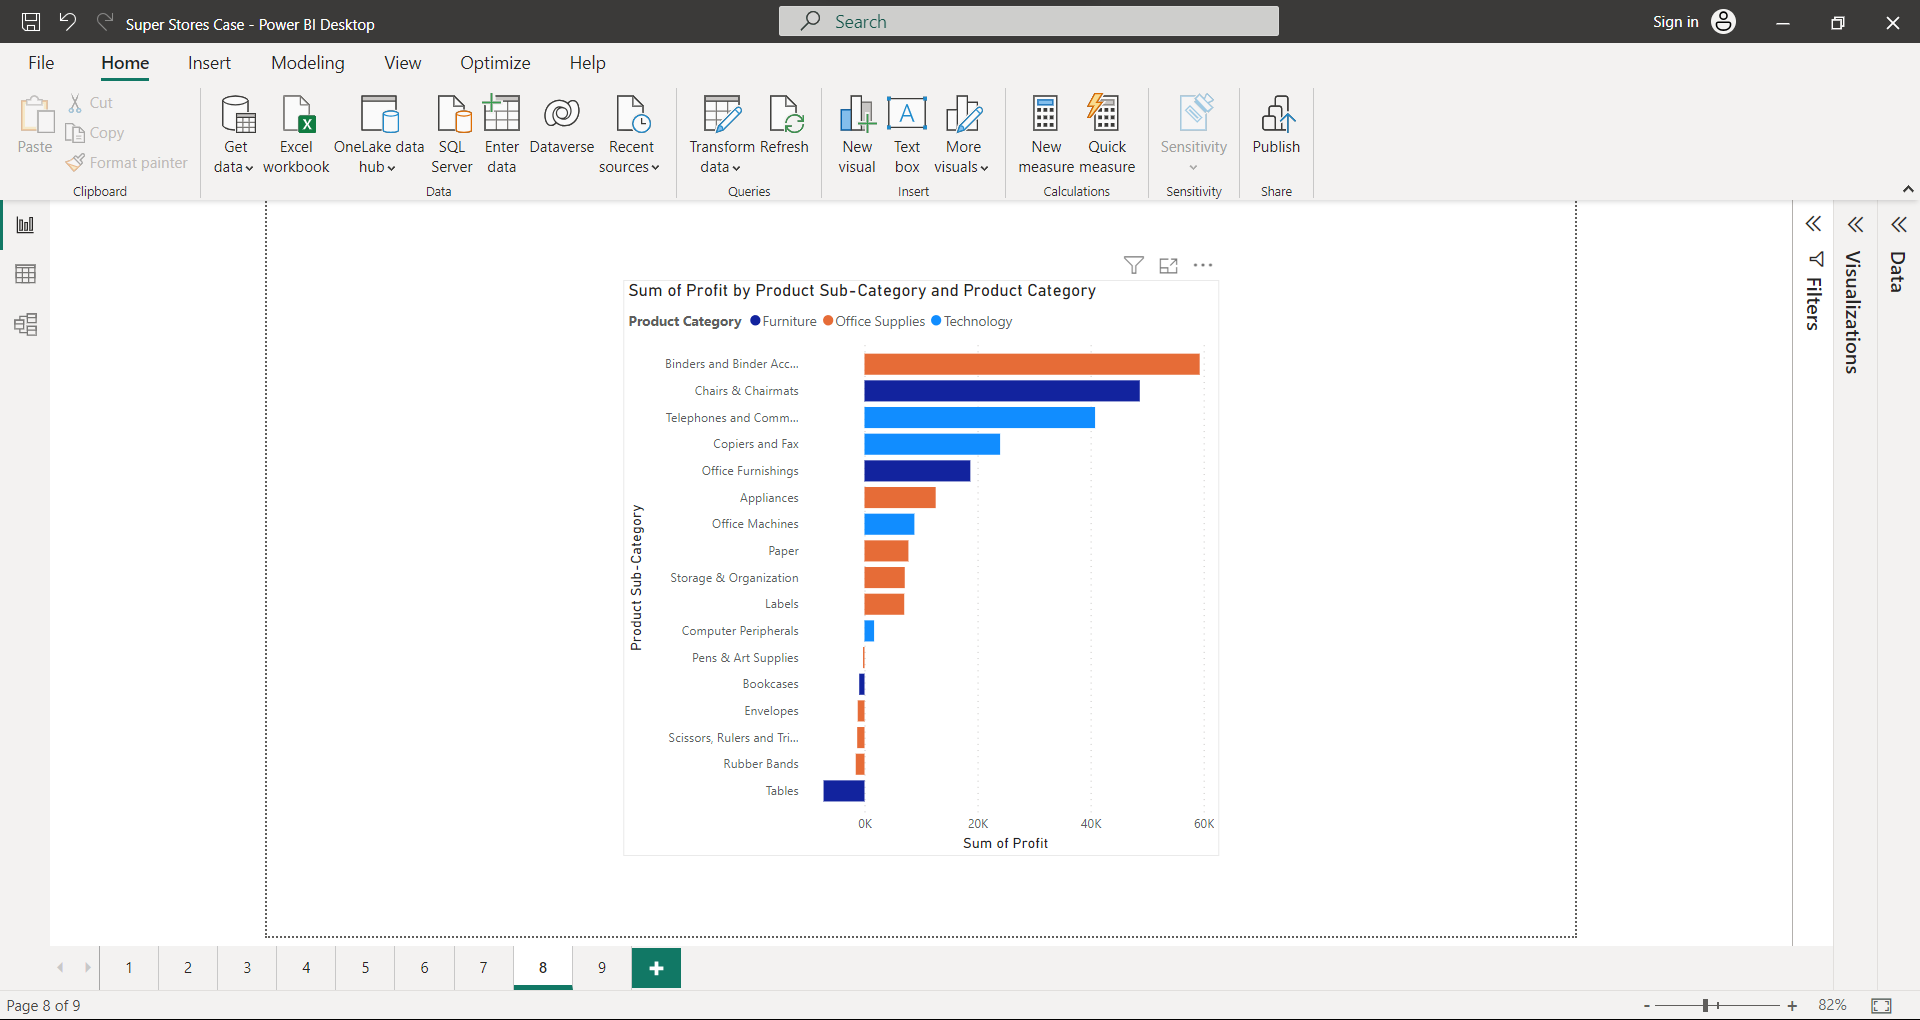

The page's visual inventory and layout, read from the dashboard file:
{"tool":"powerbi","page":{"name":"8","canvas":[1280,720],"ordinal":7},"visuals":[{"type":"barChart","fields":{"Y":["Table Transaksi.Profit"],"Category":["Table Transaksi.Product Sub-Category"],"Series":["Table Transaksi.Product Category"]},"box":[348.2,78.1,582.7,563.5],"z":0}]}

Visuals, with their boxes on the page's 1280x720 design canvas (x1, y1, x2, y2). These are canvas units, not pixel positions in the 1920x1020 screenshot, which may show the page scaled, cropped or inside an application window:
barChart - Table Transaksi.Profit x Table Transaksi.Product Sub-Category: <bbox>348, 78, 931, 642</bbox>
